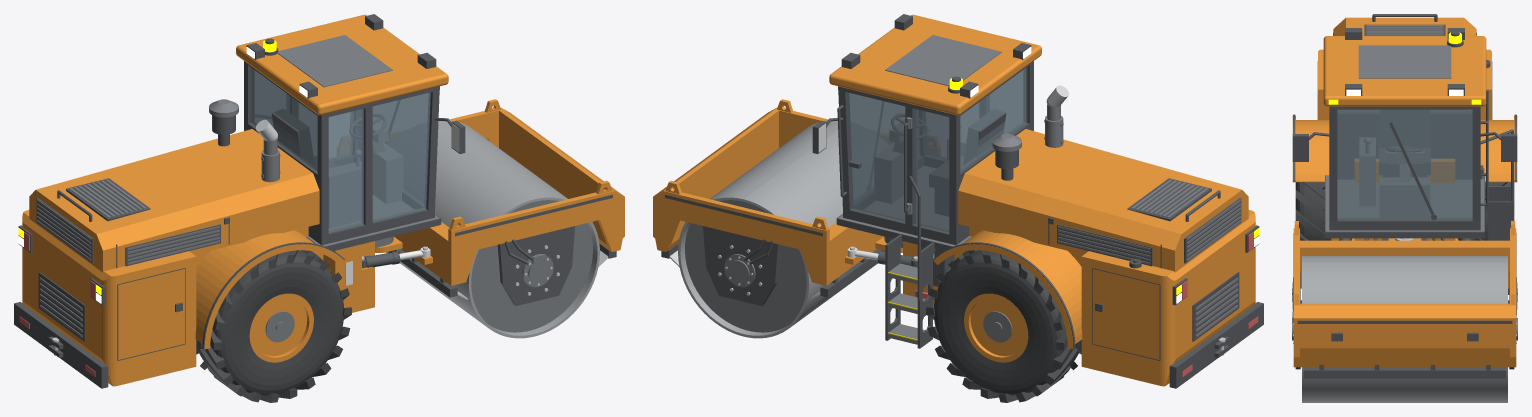
Rendered from Vibratory_Soil_Roller_84in.glb.
The picture shows the model from 3 angles, left to right: view 1: azimuth 30°, elevation 25°; view 2: azimuth 150°, elevation 25°; view 3: azimuth 270°, elevation 25°; orthographic projection. The views are drawn at different scales.
Visible parts, largest first — view 1: hood, rear_body, cab_glass, tyre_R, drum_shell, cab_roof, cab_frame, drum_frame_sides, drum_end_plates, drum_frame_front, fender_2, drum_mount_plate_R (+25 smaller); view 2: hood, rear_body, cab_glass, tyre_L, drum_shell, cab_roof, cab_frame, drum_frame_sides, drum_end_plates, fender, drum_frame_front, drum_mount_plate_L (+26 smaller); view 3: drum_shell, cab_glass, drum_frame_front, cab_frame, cab_roof, platform, drum_frame_rear, roof_panel, steering_console, seat, front_scraper_holder, fender_2 (+22 smaller).
Part boxes in pixels (<box>): hood: <box>29,129,319,272</box>; rear_body: <box>22,210,196,386</box>; cab_glass: <box>250,67,430,232</box>; tyre_R: <box>196,250,351,402</box>; drum_shell: <box>385,120,599,338</box>; cab_roof: <box>236,14,448,115</box>; cab_frame: <box>244,61,439,245</box>; drum_frame_sides: <box>448,108,624,285</box>; drum_end_plates: <box>471,200,592,332</box>; drum_frame_front: <box>499,109,624,251</box>; fender_2: <box>195,230,344,349</box>; drum_mount_plate_R: <box>497,226,574,305</box>; hood: <box>958,129,1248,272</box>; rear_body: <box>1081,210,1255,386</box>; cab_glass: <box>847,67,1027,232</box>; tyre_L: <box>926,250,1081,402</box>; drum_shell: <box>678,120,877,338</box>; cab_roof: <box>829,14,1041,115</box>; cab_frame: <box>838,61,1033,245</box>; drum_frame_sides: <box>653,108,829,285</box>; drum_end_plates: <box>685,200,806,332</box>; fender: <box>933,230,1082,349</box>; drum_frame_front: <box>653,109,778,251</box>; drum_mount_plate_L: <box>703,226,780,305</box>; drum_shell: <box>1302,256,1507,402</box>; cab_glass: <box>1337,109,1472,219</box>; drum_frame_front: <box>1293,303,1516,367</box>; cab_frame: <box>1329,106,1480,230</box>; cab_roof: <box>1323,36,1486,106</box>; platform: <box>1325,175,1484,231</box>; drum_frame_rear: <box>1300,240,1509,288</box>; roof_panel: <box>1358,45,1451,78</box>; steering_console: <box>1380,150,1429,218</box>; seat: <box>1379,110,1430,176</box>; front_scraper_holder: <box>1303,367,1506,378</box>; fender_2: <box>1292,115,1329,182</box>.
Size of the model in its own units: 6 by 3.14 by 2.33.
